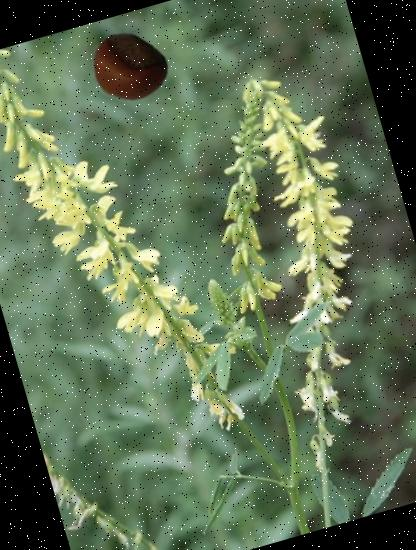Nut: (81, 21, 175, 115)
